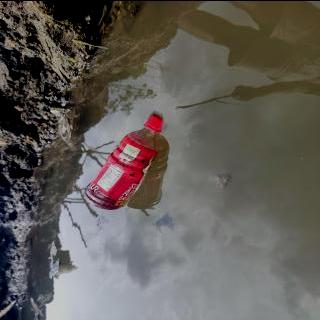bottle: (78, 112, 168, 212)
